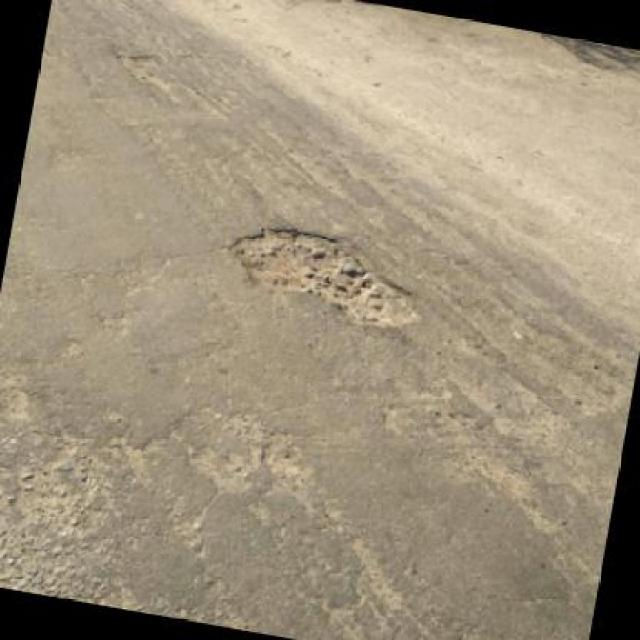pothole: (216, 215, 435, 334), (107, 43, 173, 92)
